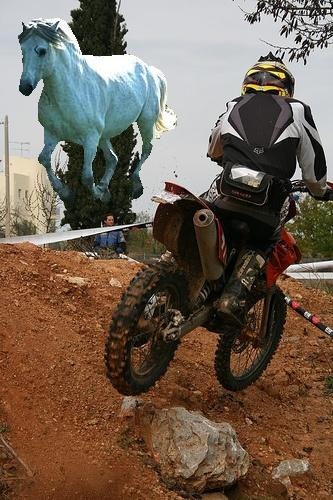tampered: (19, 19, 177, 204)
